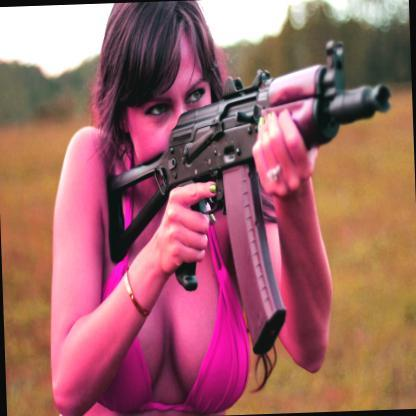rifle: (97, 56, 399, 366)
